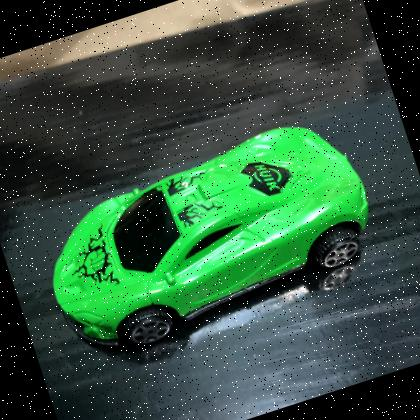Car: (52, 126, 369, 352)
